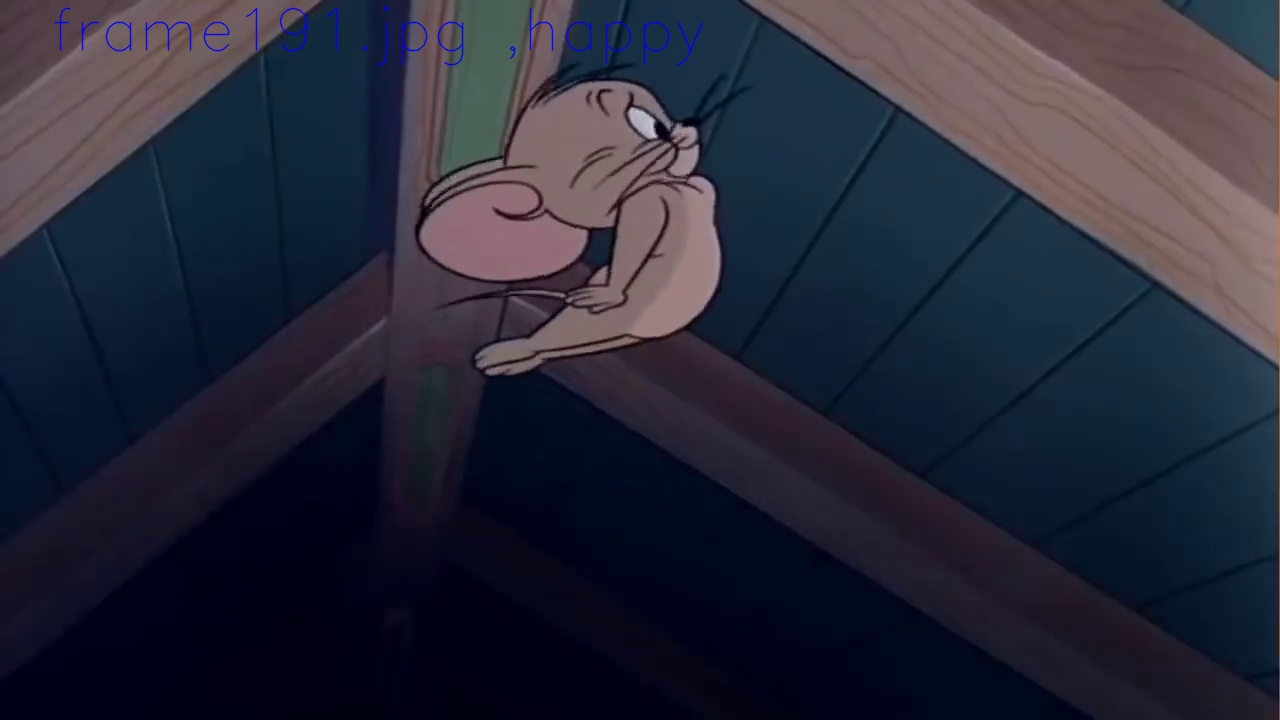happy: (587, 81, 701, 175)
